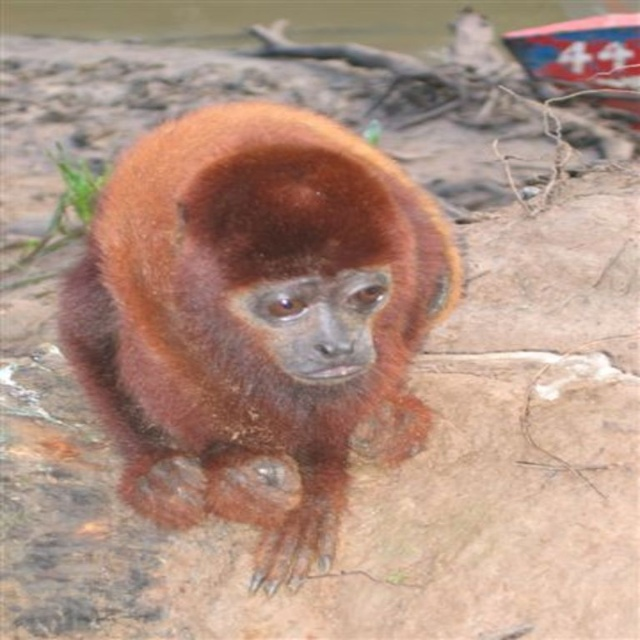Monkey: (59, 101, 466, 597)
